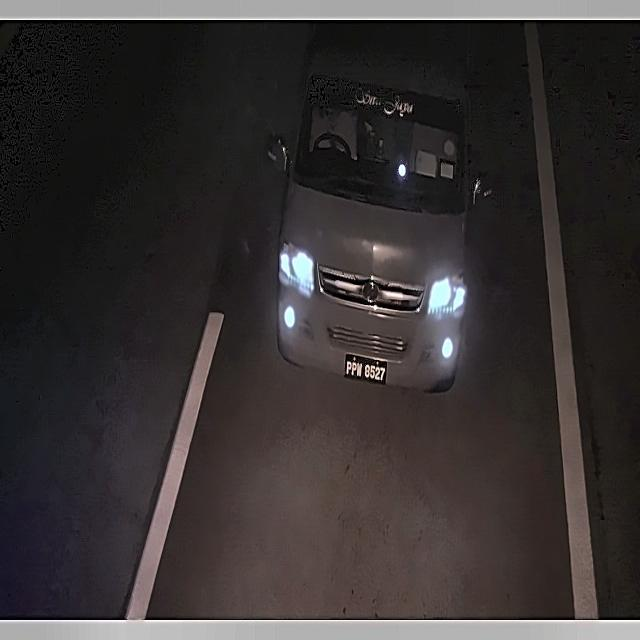car: (342, 348, 392, 388)
